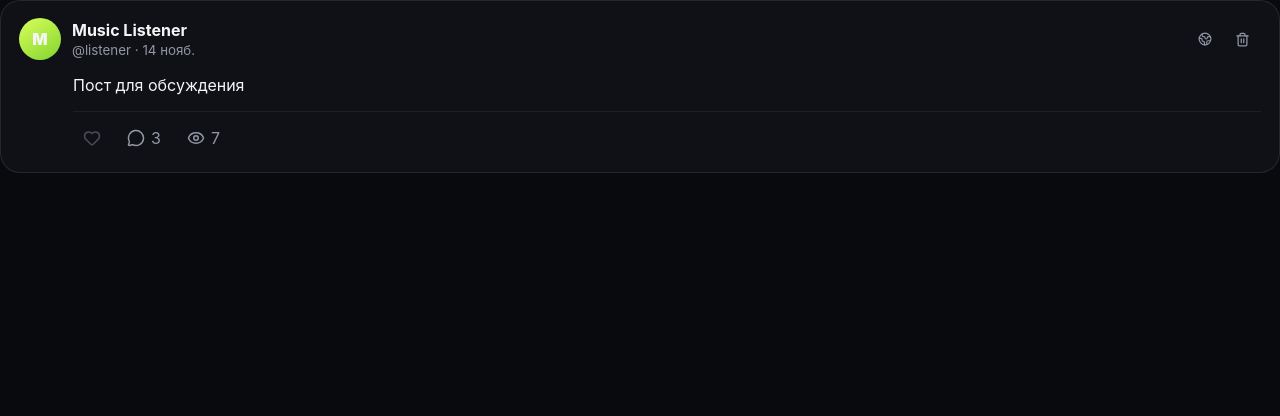
Test: SocialPostCard comments › loads comments lazily and expands every reply level
Expected: the text "Корневой комментарий" is not shown
Click the button named "Комментарии: 3".
click(144, 138)  # box [117, 121, 171, 155]
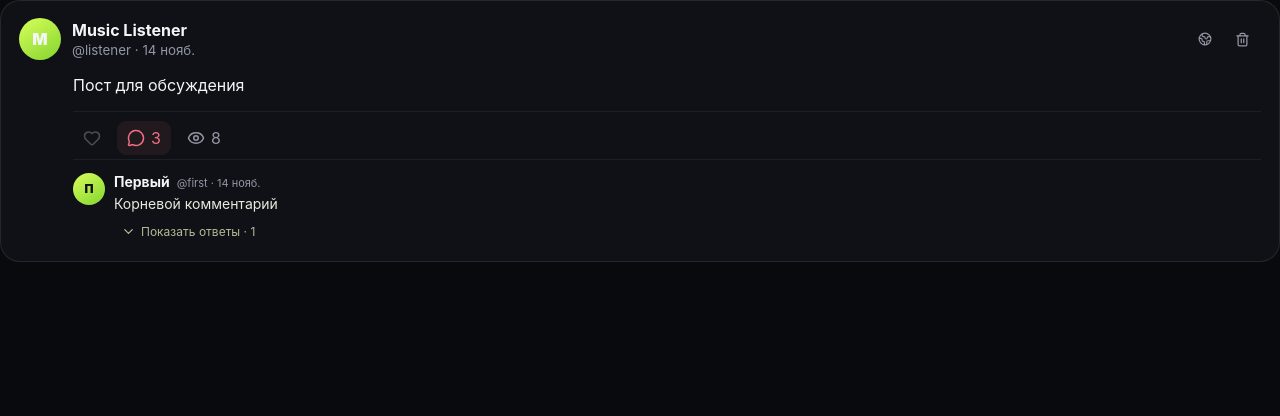
Expected: the text "Ответ первого уровня" is not shown
Result: the text "Корневой комментарий" is shown at [114, 195, 278, 212]
Click the button "Показать ответы · 1".
click(188, 232)  # box [114, 219, 262, 244]
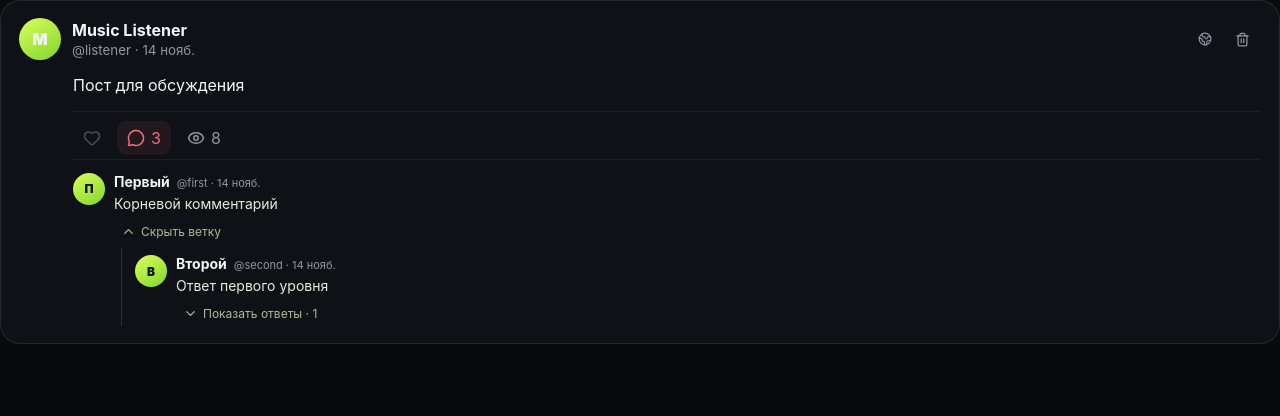
Result: the text "Ответ первого уровня" is shown at [176, 277, 328, 294]
Click the button "Показать ответы · 1".
click(250, 314)  # box [176, 301, 324, 326]
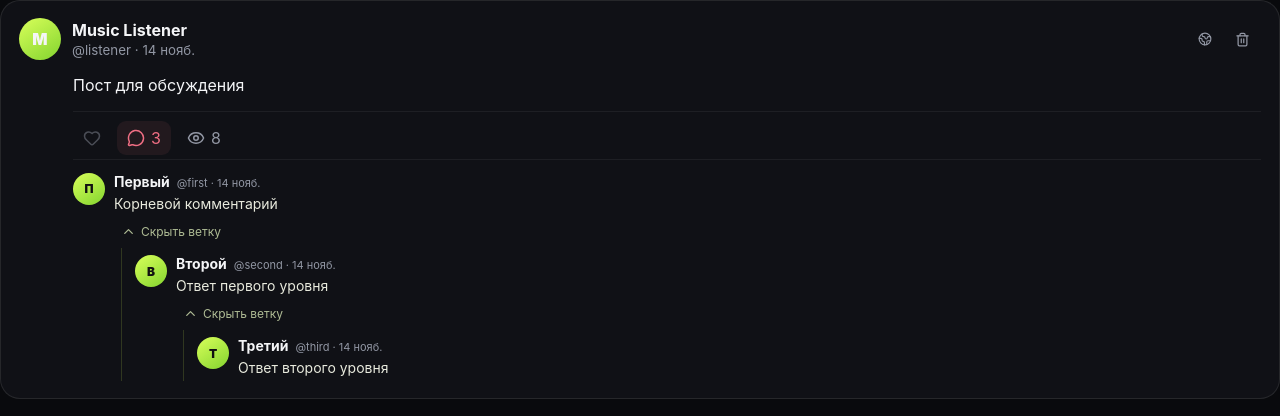
Result: the text "Ответ второго уровня" is shown at [238, 359, 388, 376]
